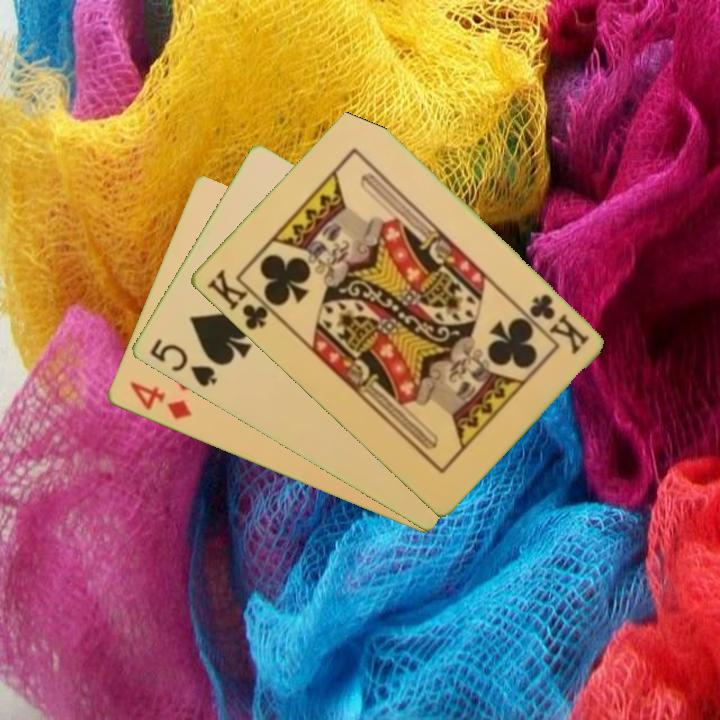4d: (125, 378, 195, 423)
5s: (145, 335, 220, 390)
Kc: (202, 265, 279, 333), (525, 290, 592, 357)
